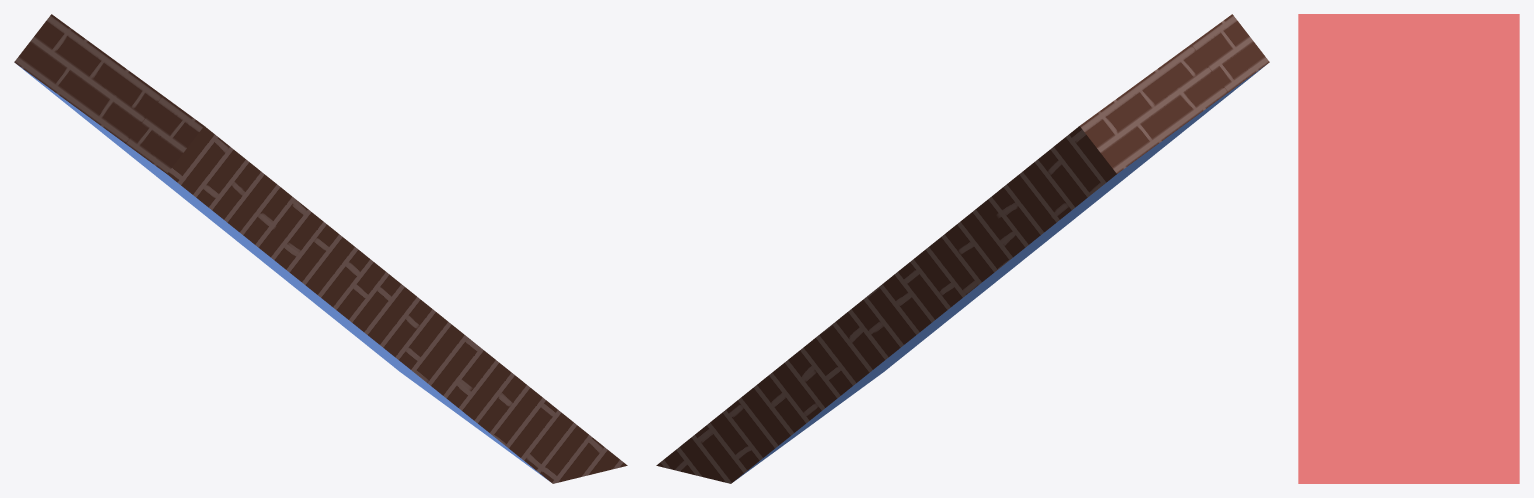
Rendered from floor3.FBX.
3 views of the same model, side by side, from view 1: azimuth 30°, elevation 25°; view 2: azimuth 150°, elevation 25°; view 3: azimuth 270°, elevation 25° (orthographic). The views are drawn at different scales.
Visible parts, largest first — view 1: floor3; view 2: floor3; view 3: floor3.
Part boxes in pixels (x1,y1,x2,y2): floor3: (14, 14, 627, 483); floor3: (656, 14, 1269, 483); floor3: (1298, 14, 1519, 483).
Size of the model in its own units: 435 by 400 by 250.
Materials: 3 (1 with a texture image).
